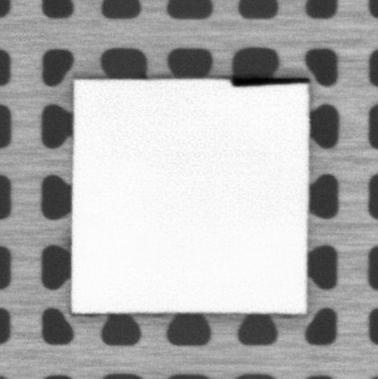DIE_BROKEN: (229, 74, 309, 88)
